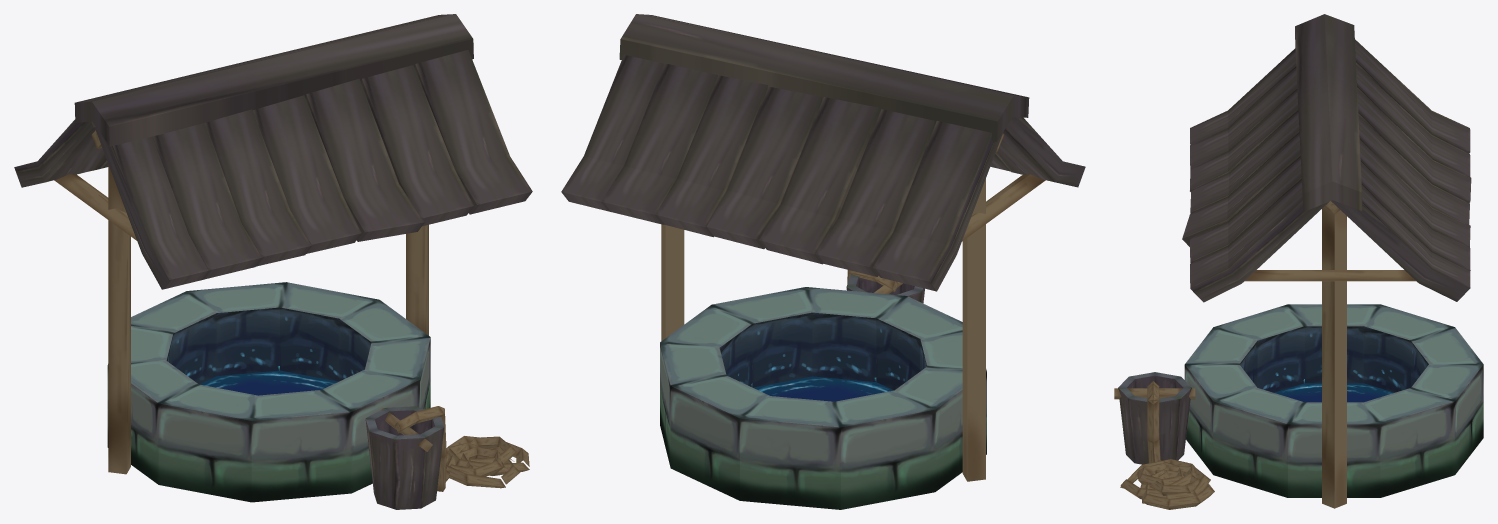
The model's file is well.gltf.
3 views of the same model, side by side, from view 1: azimuth 30°, elevation 25°; view 2: azimuth 150°, elevation 25°; view 3: azimuth 270°, elevation 25° (orthographic). The views are drawn at different scales.
Parts seen in each view (by area): view 1: WellMesh; view 2: WellMesh; view 3: WellMesh.
Boxes of the visible parts, x1=… form: WellMesh: x1=14, y1=14, x2=532, y2=509; WellMesh: x1=561, y1=14, x2=1085, y2=509; WellMesh: x1=1114, y1=14, x2=1483, y2=509.
Size of what is drawn, in the model's own units: 2.08 by 2.04 by 1.98.
Materials: 1 (1 with a texture image).
